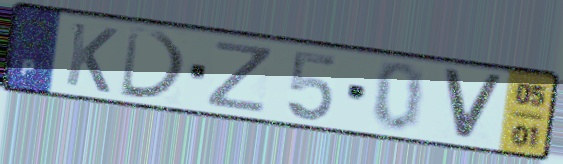0: (371, 61, 428, 135)
5: (284, 49, 340, 124)
D: (117, 24, 191, 103)
K: (62, 19, 121, 96)
V: (439, 65, 507, 145)
Z: (203, 38, 277, 116)
